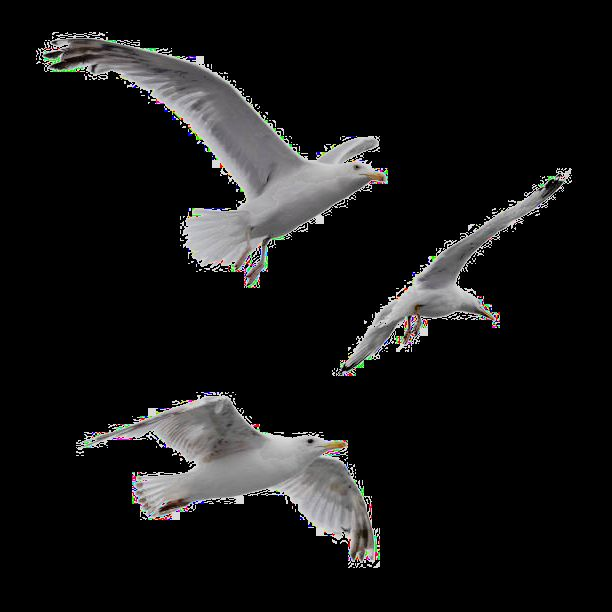Bird: (36, 25, 387, 292), (71, 392, 392, 571), (319, 165, 570, 376)
